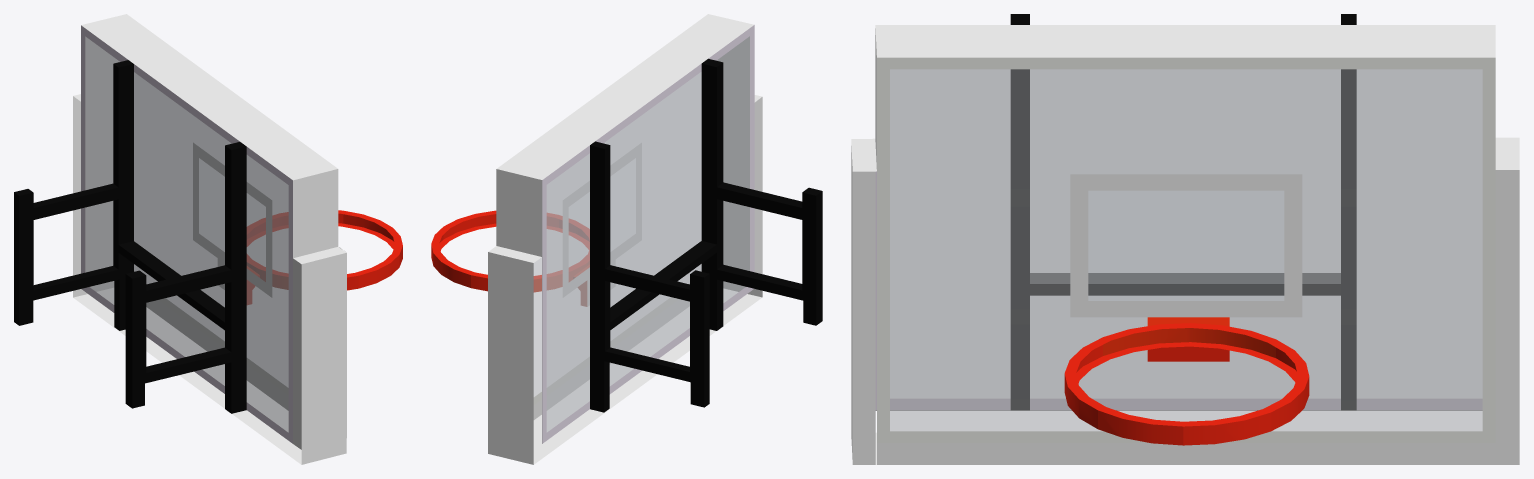
The model's file is Mini+Basketball+Hoop.fbx.
The picture shows the model from 3 angles, left to right: view 1: azimuth 30°, elevation 25°; view 2: azimuth 150°, elevation 25°; view 3: azimuth 270°, elevation 25°; orthographic projection. The views are drawn at different scales.
Visible parts, largest first — view 1: Model; view 2: Model; view 3: Model.
Boxes of the visible parts, x1,y1,x2,y2 form: Model: [14, 14, 402, 464]; Model: [431, 14, 822, 464]; Model: [851, 14, 1519, 464].
Size of the model in its own units: 20.95 by 17.44 by 25.94.
